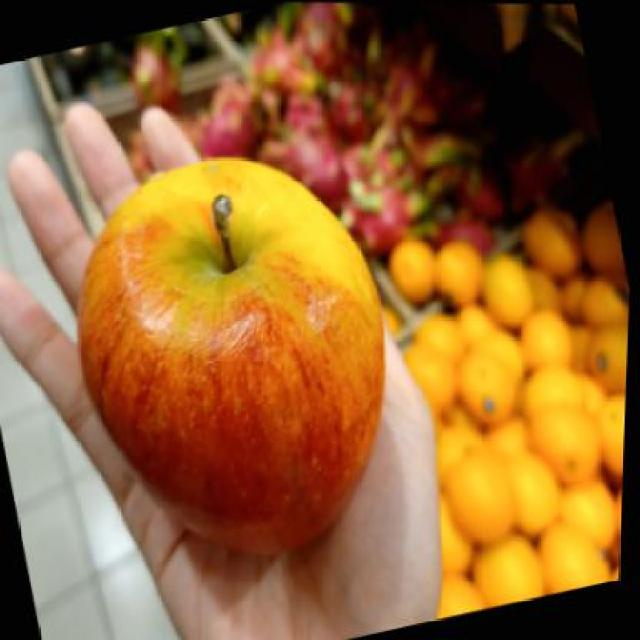Fresh Apple: (74, 156, 396, 557)
